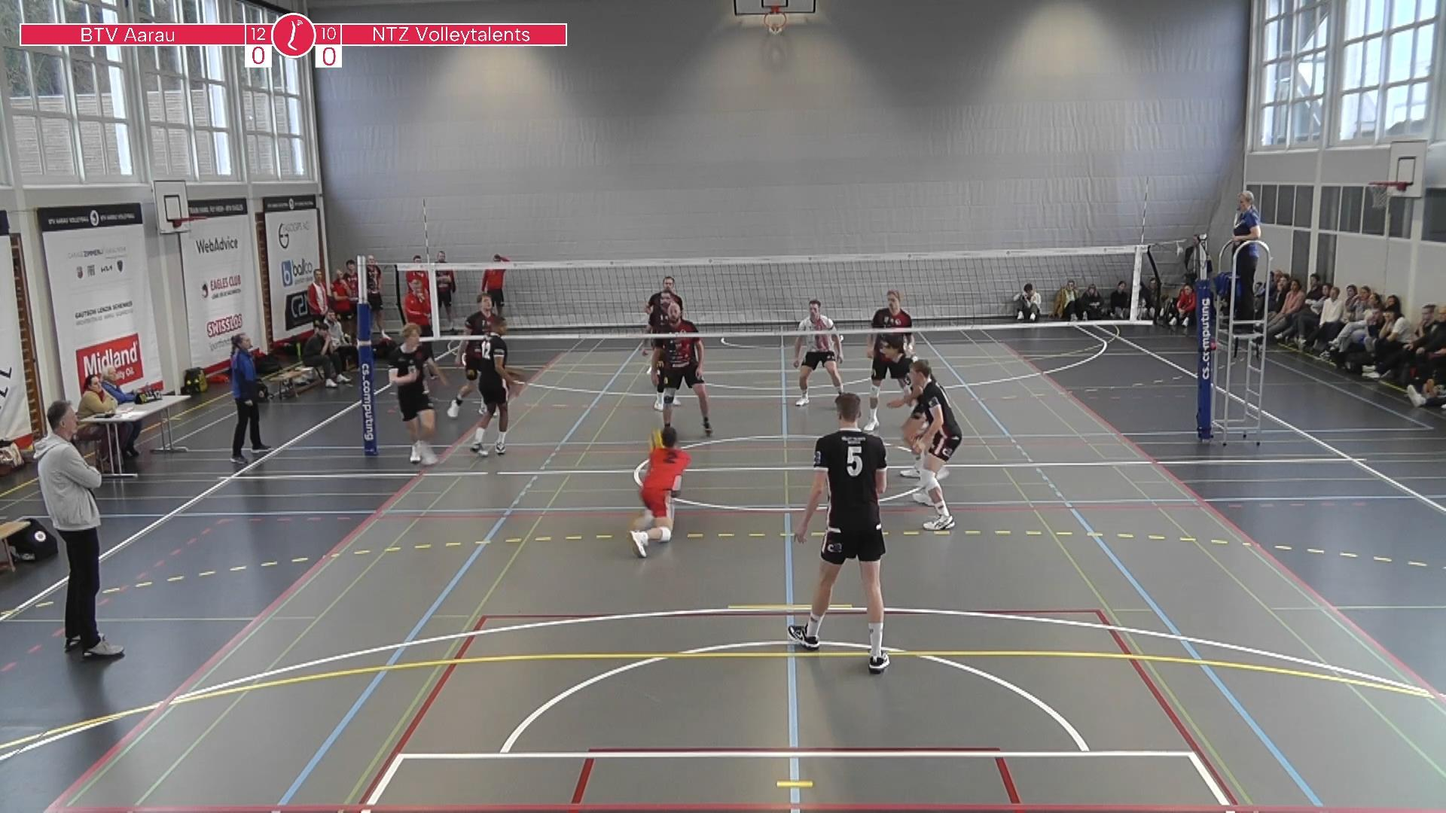difesa: (621, 427, 698, 557)
